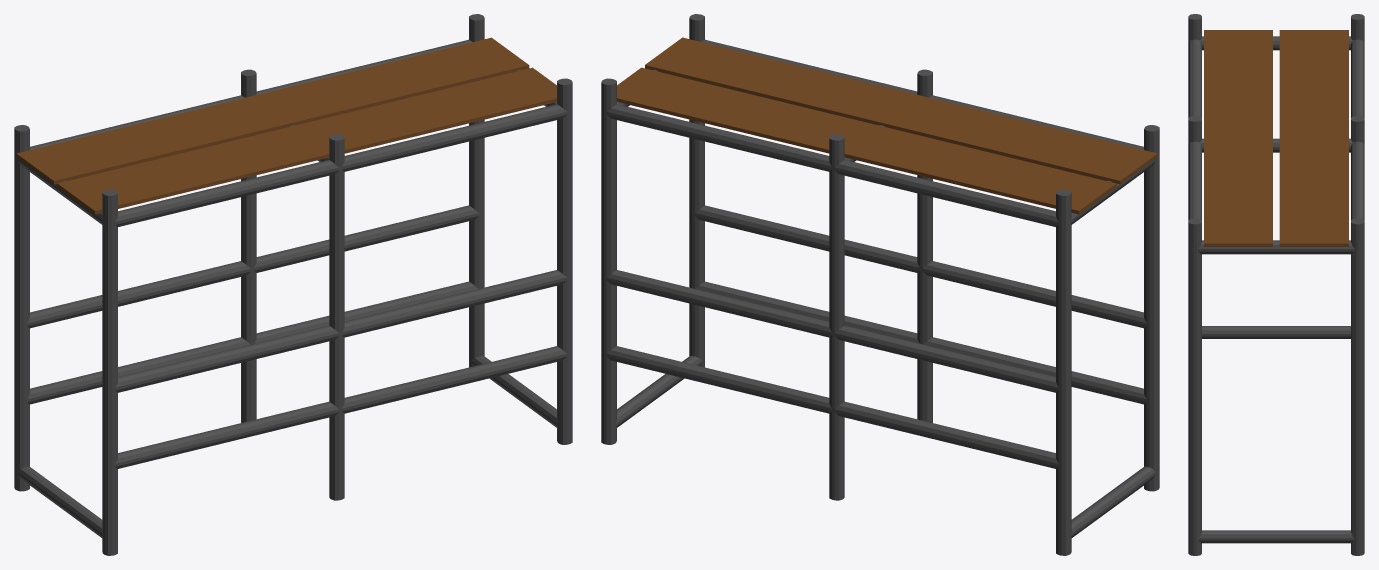
The picture shows the model from 3 angles, left to right: view 1: azimuth 30°, elevation 25°; view 2: azimuth 150°, elevation 25°; view 3: azimuth 270°, elevation 25°; orthographic projection. The views are drawn at different scales.
Visible parts, largest first — view 1: I-43; view 2: I-43; view 3: I-43.
Boxes of the visible parts, x1,y1,x2,y2 form: I-43: (14,14,572,555); I-43: (601,14,1159,555); I-43: (1188,14,1364,555).
Size of the model in its own units: 787 by 570 by 274.
